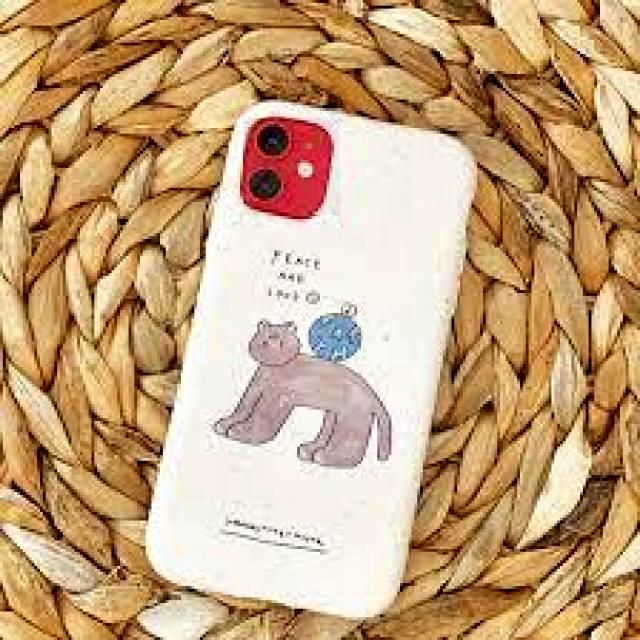lens_back: (256, 120, 292, 156), (247, 168, 283, 200)
phone: (140, 97, 478, 621)
